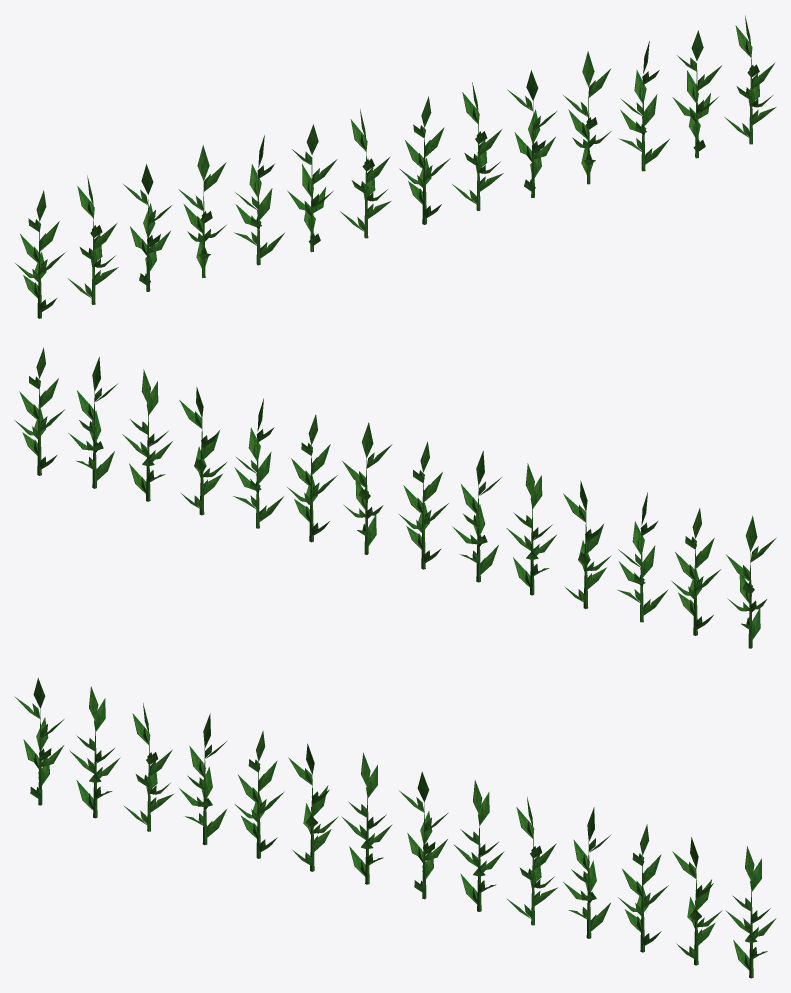
Rendered from Corn_HeatField_SingleRow.fbx.
The picture shows the model from 3 angles, top to bottom: view 1: azimuth 30°, elevation 25°; view 2: azimuth 150°, elevation 25°; view 3: azimuth 330°, elevation 25°; orthographic projection.
Visible parts, largest first — view 1: HeatField_Corn; view 2: HeatField_Corn; view 3: HeatField_Corn.
Part boxes in pixels (x1,y1,x2,y2): HeatField_Corn: (15, 15, 776, 318); HeatField_Corn: (14, 347, 776, 648); HeatField_Corn: (14, 677, 776, 978).
Size of the model in its own units: 2088 by 344 by 132.
